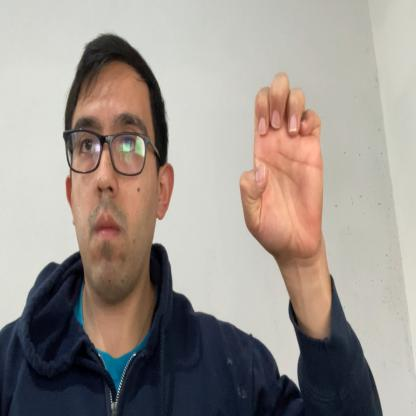E: (239, 72, 324, 259)
